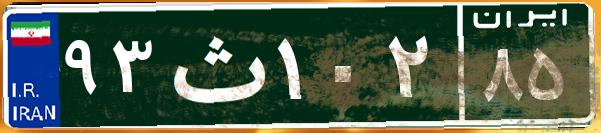0: (330, 28, 385, 110)
1: (273, 28, 330, 110)
2: (385, 28, 445, 110)
3: (110, 28, 158, 105)
5: (525, 38, 570, 115)
8: (475, 38, 525, 113)
9: (57, 26, 110, 107)
ث: (158, 15, 273, 115)
